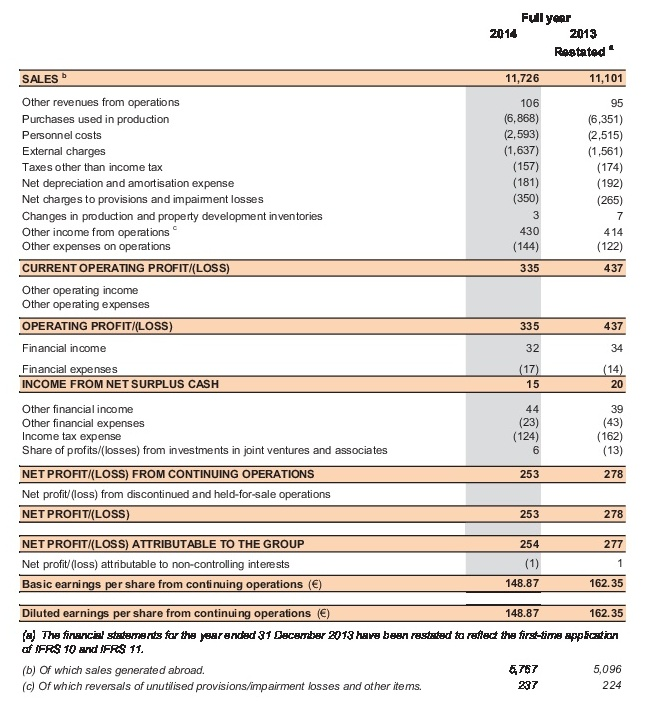table: (0, 0, 657, 705)
